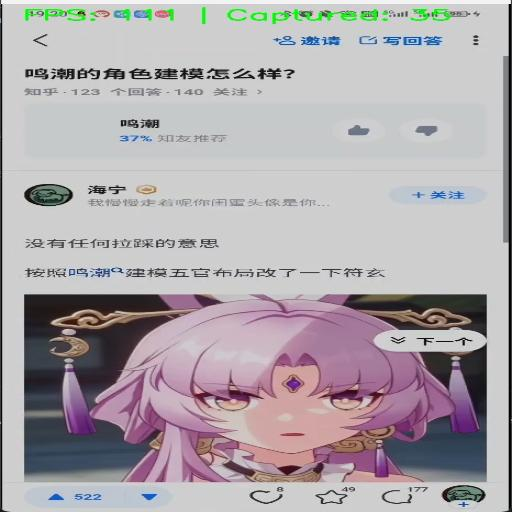back: (22, 28, 61, 50)
butten: (377, 329, 484, 353), (372, 484, 430, 511), (454, 31, 503, 59)
